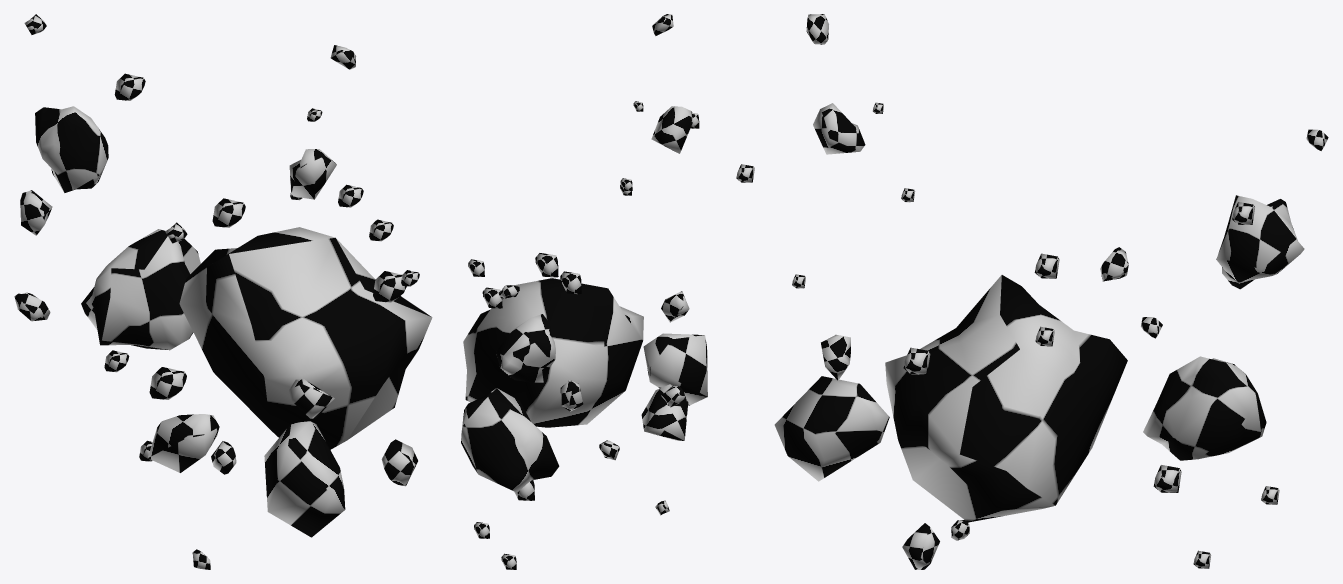
Rendered from zone_asteroid_low1.obj.
The picture shows the model from 3 angles, left to right: view 1: azimuth 30°, elevation 25°; view 2: azimuth 150°, elevation 25°; view 3: azimuth 270°, elevation 25°; orthographic projection. The views are drawn at different scales.
Parts seen in each view (by area): view 1: low_asteroida; view 2: low_asteroida; view 3: low_asteroida.
Part boxes in pixels (x1,y1,x2,y2): low_asteroida: (14,14,432,569); low_asteroida: (461,14,707,569); low_asteroida: (736,14,1328,569).
Bounding box in the file's own units: 173 × 276 × 266.
Materials: 1 (1 with a texture image).
